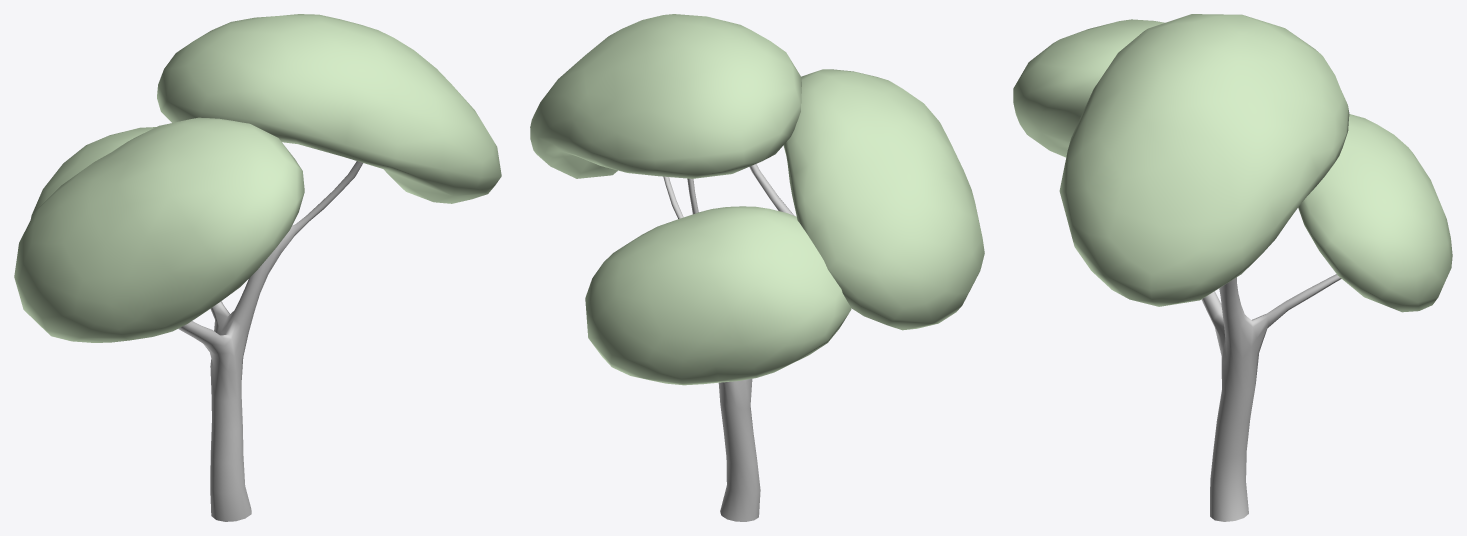
The model's file is stylized-tree-08.fbx.
3 views of the same model, side by side, from view 1: azimuth 30°, elevation 25°; view 2: azimuth 150°, elevation 25°; view 3: azimuth 270°, elevation 25° (orthographic). The views are drawn at different scales.
Visible parts, largest first — view 1: Tree_08_leaves, Tree_08_bark; view 2: Tree_08_leaves, Tree_08_bark; view 3: Tree_08_leaves, Tree_08_bark.
Boxes of the visible parts, x1=… form: Tree_08_leaves: x1=14, y1=14, x2=501, y2=342; Tree_08_bark: x1=178, y1=161, x2=363, y2=521; Tree_08_leaves: x1=530, y1=14, x2=984, y2=385; Tree_08_bark: x1=663, y1=164, x2=794, y2=521; Tree_08_leaves: x1=1013, y1=14, x2=1452, y2=312; Tree_08_bark: x1=1201, y1=274, x2=1341, y2=521.
Size of the model in its own units: 420 by 439 by 342.
